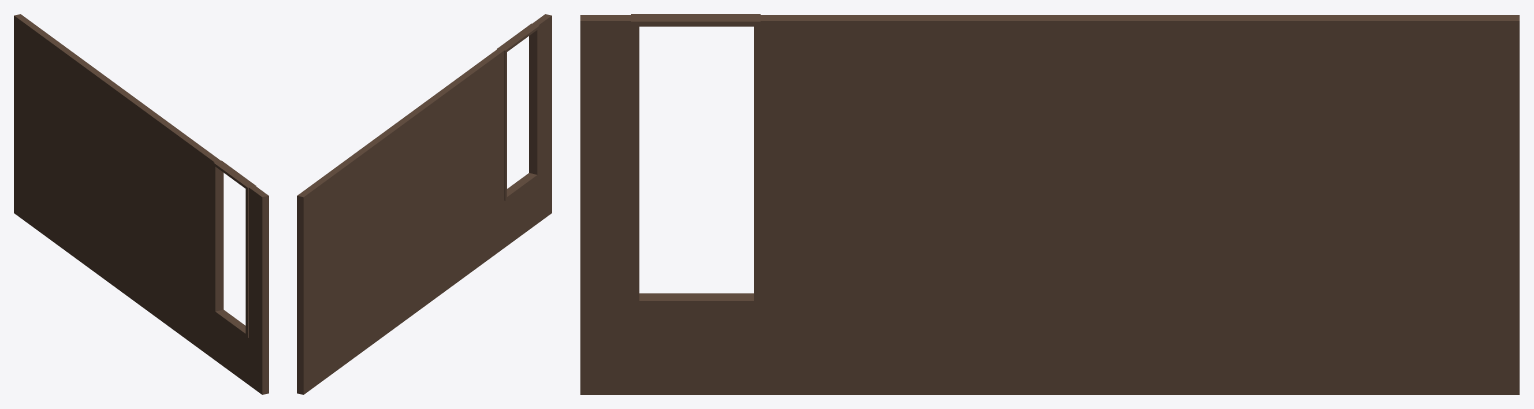
3 renders of one model, left to right at view 1: azimuth 30°, elevation 25°; view 2: azimuth 150°, elevation 25°; view 3: azimuth 270°, elevation 25°, orthographic. The views are drawn at different scales.
Parts seen in each view (by area): view 1: inner_wall_ebtrance_Left_003; view 2: inner_wall_ebtrance_Left_003; view 3: inner_wall_ebtrance_Left_003.
Boxes of the visible parts, x1,y1,x2,y2 form: inner_wall_ebtrance_Left_003: (14,14,268,394); inner_wall_ebtrance_Left_003: (297,14,551,394); inner_wall_ebtrance_Left_003: (580,14,1519,394).
Size of the model in its own units: 11.84 by 270 by 614.
